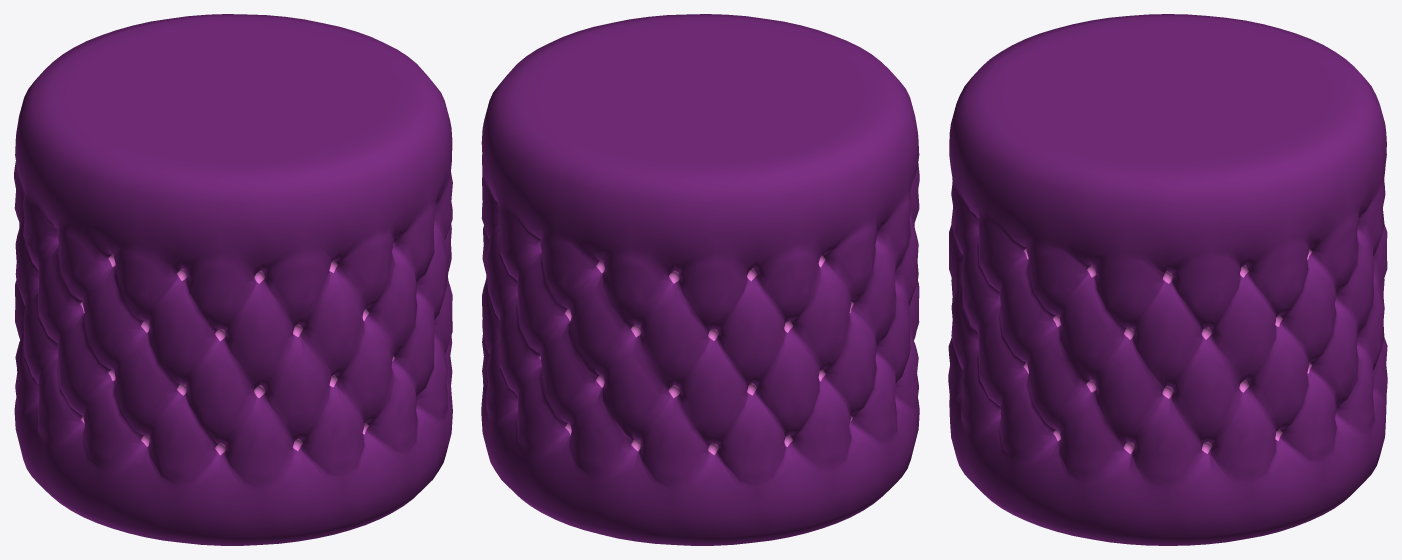
File: Poofs.fbx
The picture shows the model from 3 angles, left to right: view 1: azimuth 30°, elevation 25°; view 2: azimuth 150°, elevation 25°; view 3: azimuth 270°, elevation 25°; orthographic projection.
Parts seen in each view (by area): view 1: Poof_LowPoly; view 2: Poof_LowPoly; view 3: Poof_LowPoly.
Boxes of the visible parts, x1,y1,x2,y2 form: Poof_LowPoly: [14, 14, 452, 545]; Poof_LowPoly: [481, 14, 919, 545]; Poof_LowPoly: [948, 14, 1387, 545].
Size of the model in its own units: 213 by 200 by 213.
